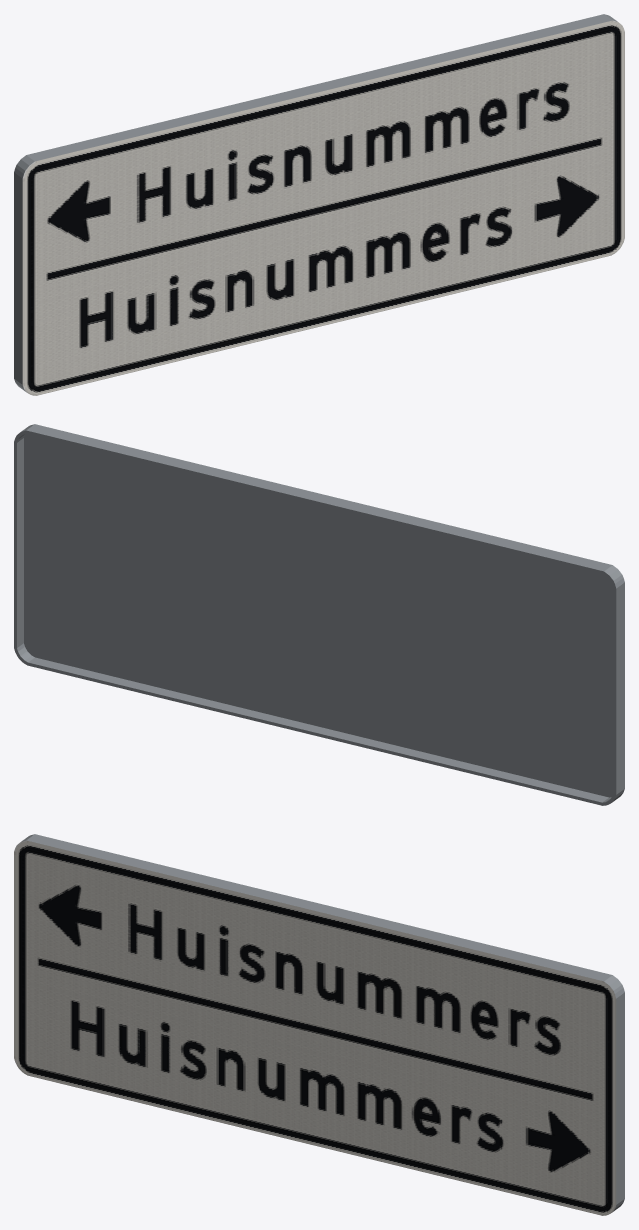
3 views of the same model, one above another, from view 1: azimuth 30°, elevation 25°; view 2: azimuth 150°, elevation 25°; view 3: azimuth 330°, elevation 25° (orthographic).
Parts seen in each view (by area): view 1: cat_00060520696de8ea; view 2: cat_00060520696de8ea; view 3: cat_00060520696de8ea.
Part boxes in pixels (box(x1,y1,x2,y2)): cat_00060520696de8ea: box(14, 14, 624, 395); cat_00060520696de8ea: box(14, 424, 624, 805); cat_00060520696de8ea: box(14, 834, 624, 1215).
Size of the model in its own units: 0.6 by 0.015 by 0.2235.
2 materials, 1 textured.
